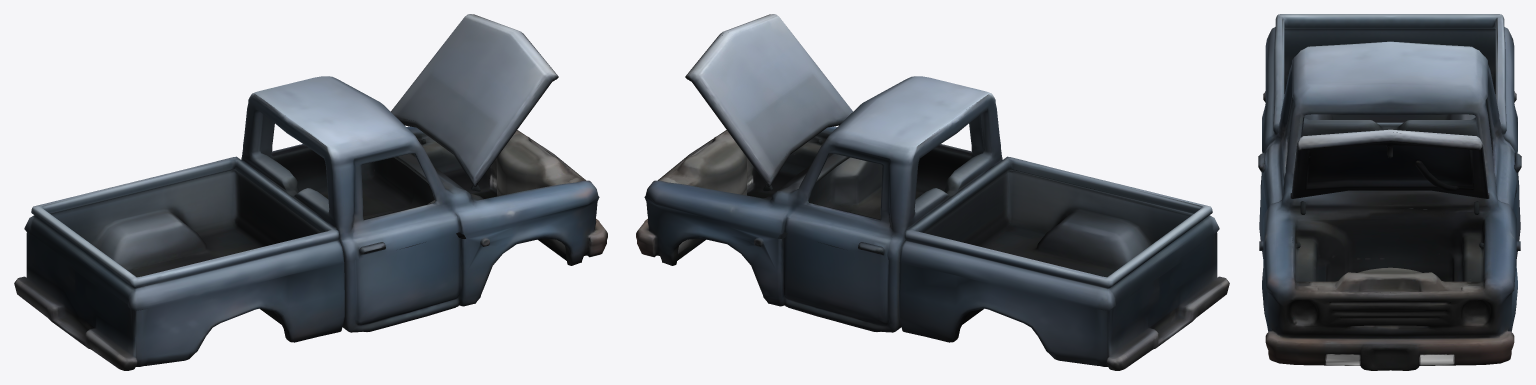
Rendered from pickup_truck_01_q3.fbx.
3 views of the same model, side by side, from view 1: azimuth 30°, elevation 25°; view 2: azimuth 150°, elevation 25°; view 3: azimuth 270°, elevation 25° (orthographic). The views are drawn at different scales.
Parts seen in each view (by area): view 1: tripo_node_06d399c7; view 2: tripo_node_06d399c7; view 3: tripo_node_06d399c7.
Part boxes in pixels (<box>): tripo_node_06d399c7: <box>14,14,607,370</box>; tripo_node_06d399c7: <box>636,14,1229,370</box>; tripo_node_06d399c7: <box>1258,14,1521,370</box>.
Bounding box in the file's own units: 0.998 × 0.4051 × 0.4129.
1 material, 1 textured.
